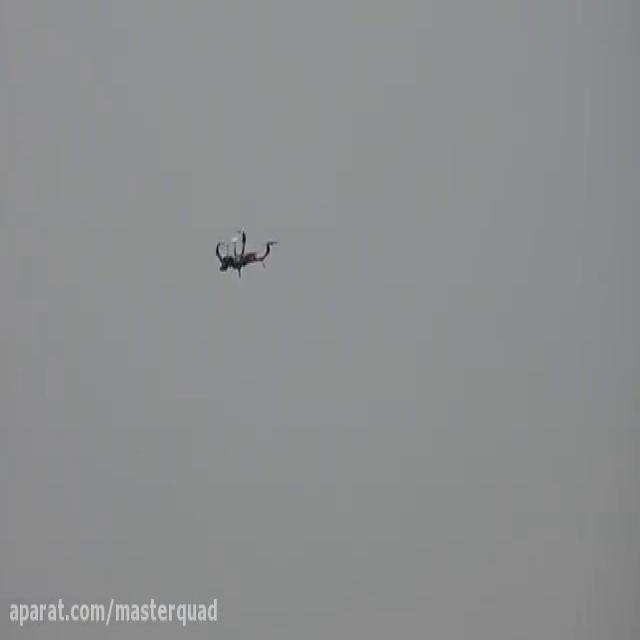drone: (208, 220, 282, 282)
